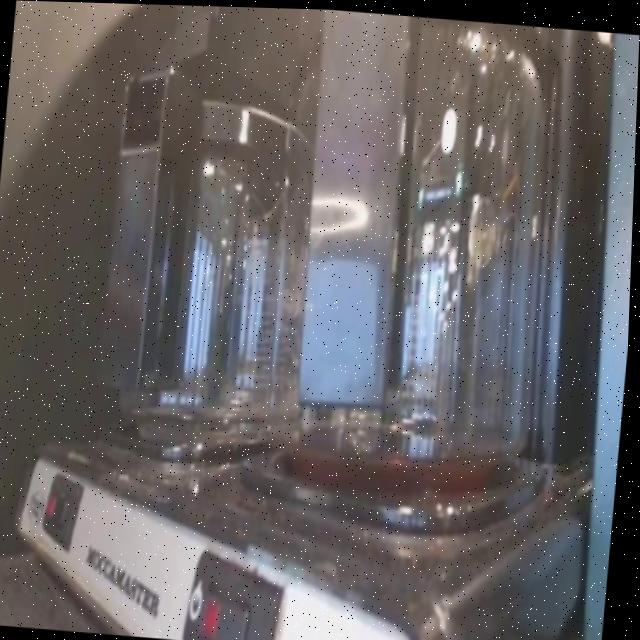nocoffee: (252, 59, 564, 504), (80, 115, 278, 483)
